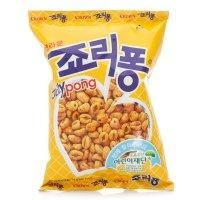snack: (28, 10, 174, 191)
